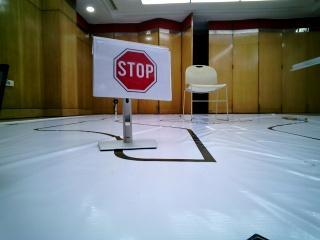stop: (95, 39, 168, 94)
